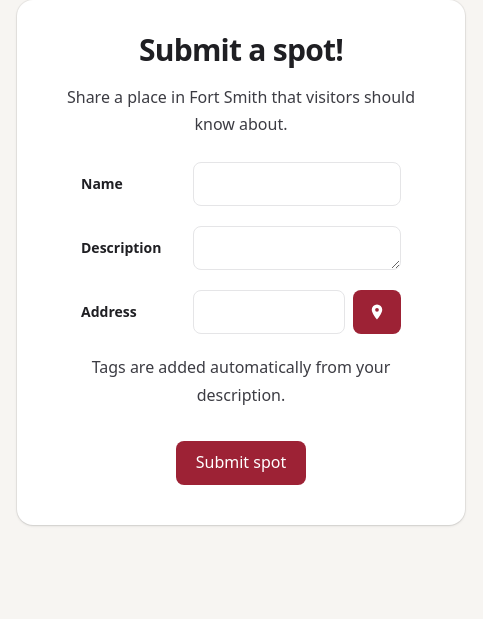
Test: shows a message when required fields are empty
Click the button "Submit spot": [241, 463] box [176,441,306,485]
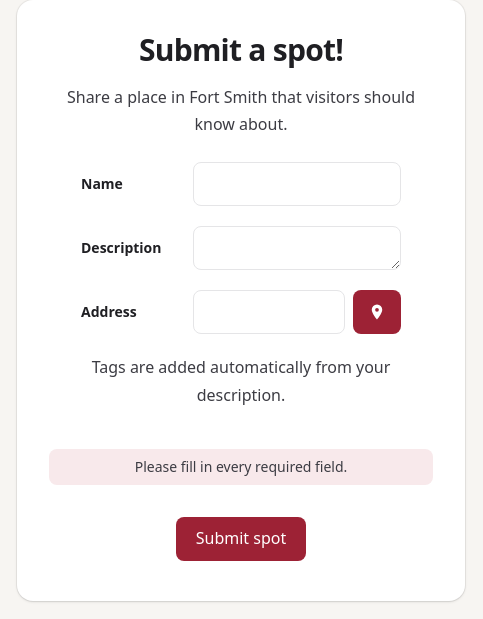
Expected: the text "Please fill in every required field." is shown, [49,449,433,485]
